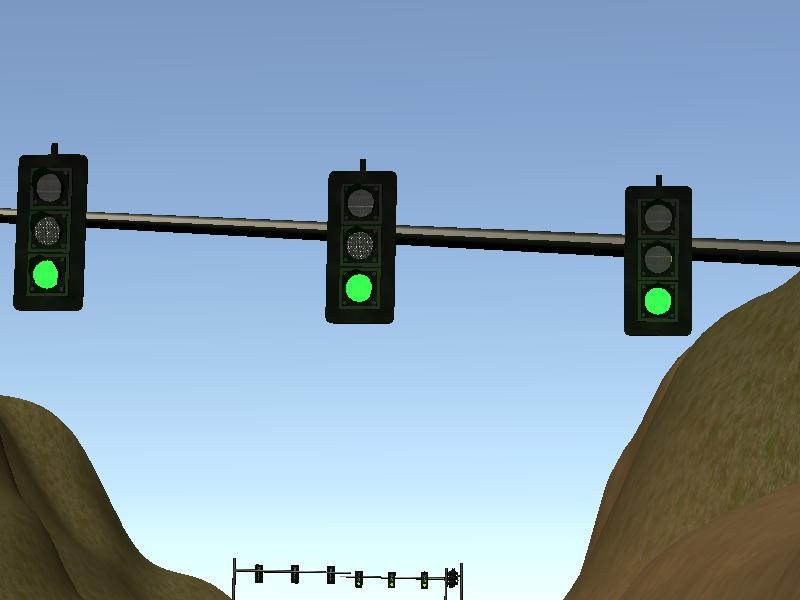green: (10, 152, 88, 314), (618, 181, 696, 341), (324, 168, 400, 328)
